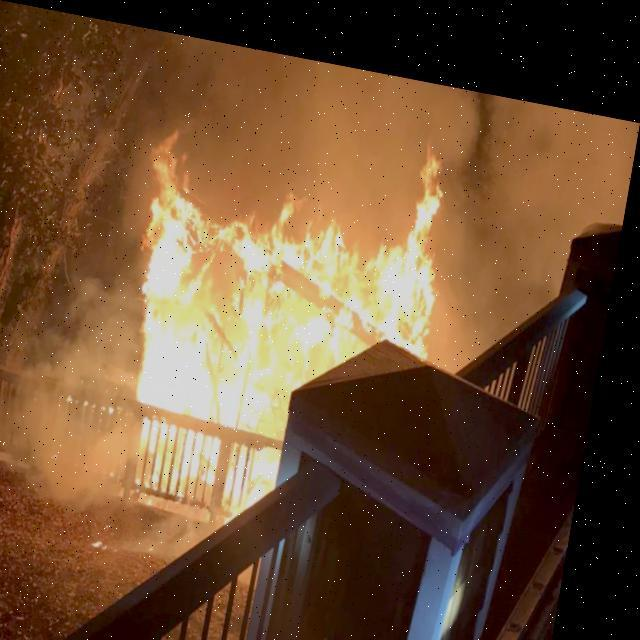Fire: (100, 88, 467, 515)
